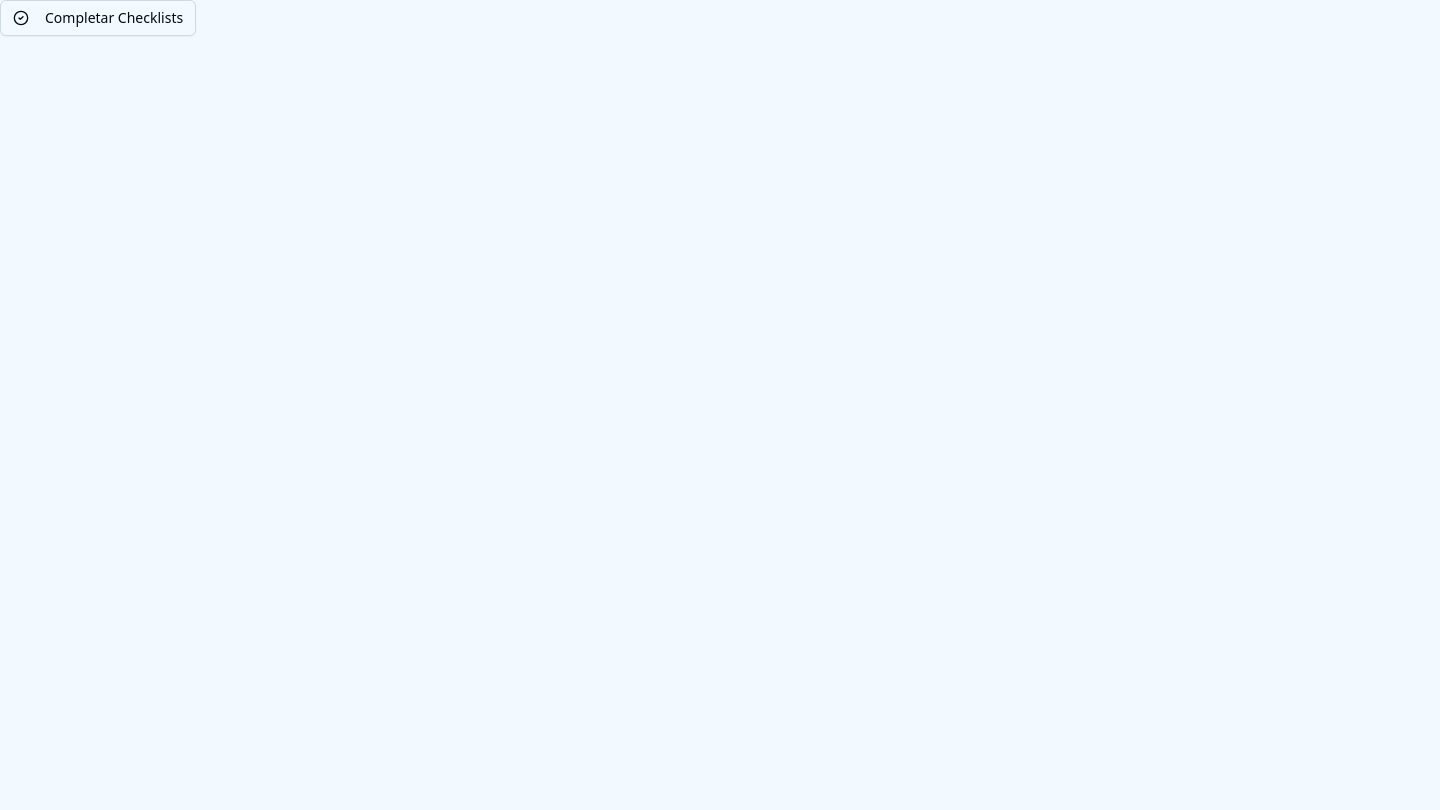
Test: ChecklistCompletionModal › should render PDF button with client name
Click the button "Completar Checklists" at (98, 18), box left=0, top=0, right=196, bottom=36
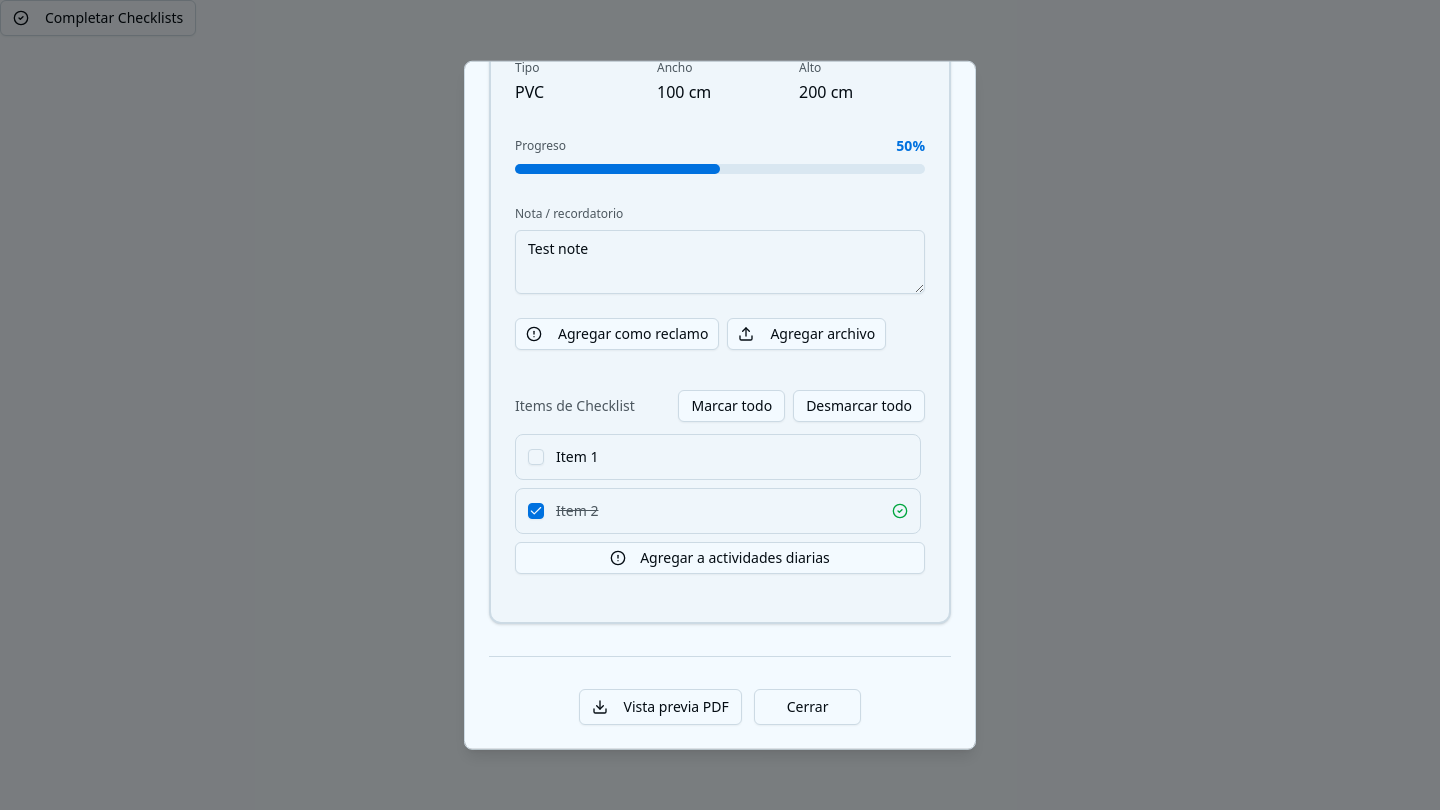
Expected: the button "Vista previa PDF" is shown, left=579, top=689, right=742, bottom=725
